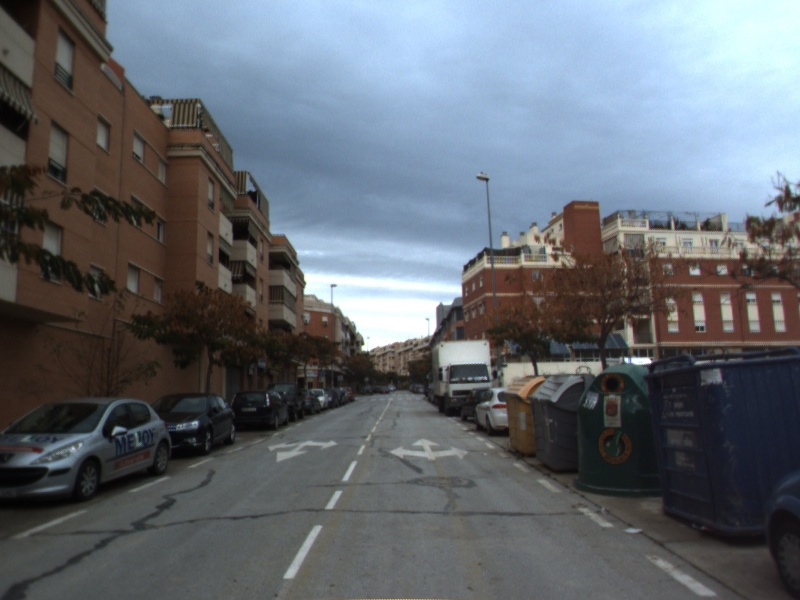STRAIGHT_LEFT_RIGHT: (387, 436, 471, 462)
